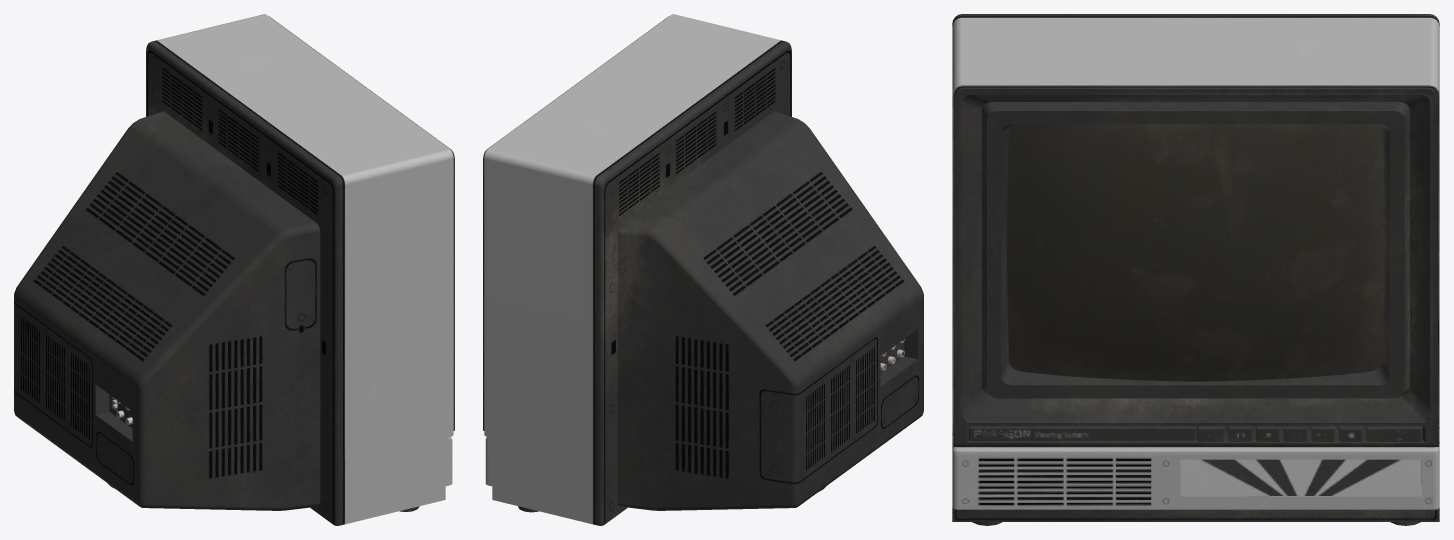
Rendered from television.glb.
The picture shows the model from 3 angles, left to right: view 1: azimuth 30°, elevation 25°; view 2: azimuth 150°, elevation 25°; view 3: azimuth 270°, elevation 25°; orthographic projection. The views are drawn at different scales.
Parts seen in each view (by area): view 1: television_02; view 2: television_02; view 3: television_02.
Boxes of the visible parts, left/top/right/bottom form: television_02: left=14, top=14, right=454, bottom=525; television_02: left=483, top=14, right=923, bottom=525; television_02: left=952, top=14, right=1439, bottom=525.
Bounding box in the file's own units: 0.3502 × 0.4114 × 0.3998.
1 material, 1 textured.
